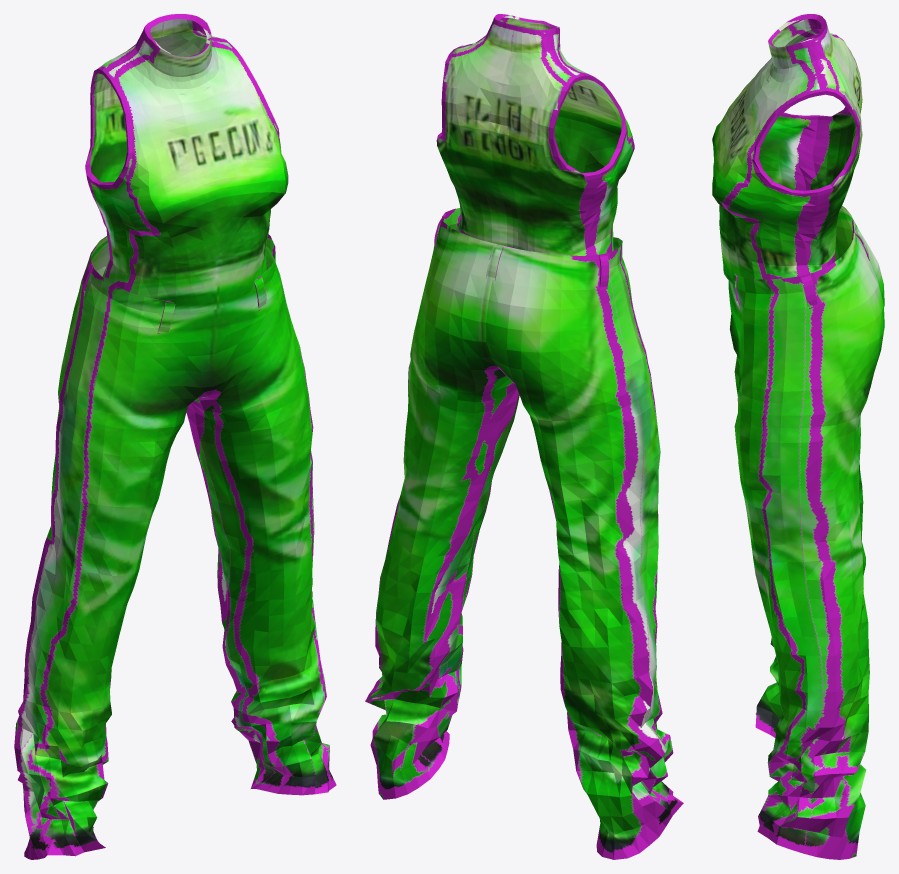
The picture shows the model from 3 angles, left to right: view 1: azimuth 30°, elevation 25°; view 2: azimuth 150°, elevation 25°; view 3: azimuth 270°, elevation 25°; orthographic projection. The views are drawn at different scales.
Bounding box in the file's own units: 0.3643 × 0.9464 × 0.1895.
1 material, 1 textured.
